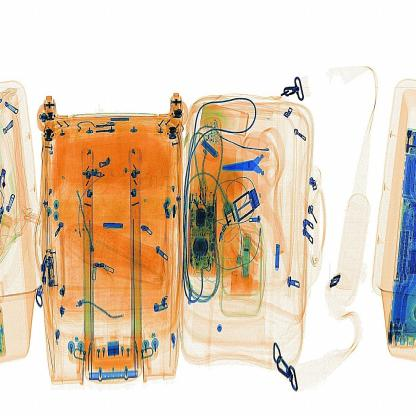gun: (220, 131, 288, 193)
